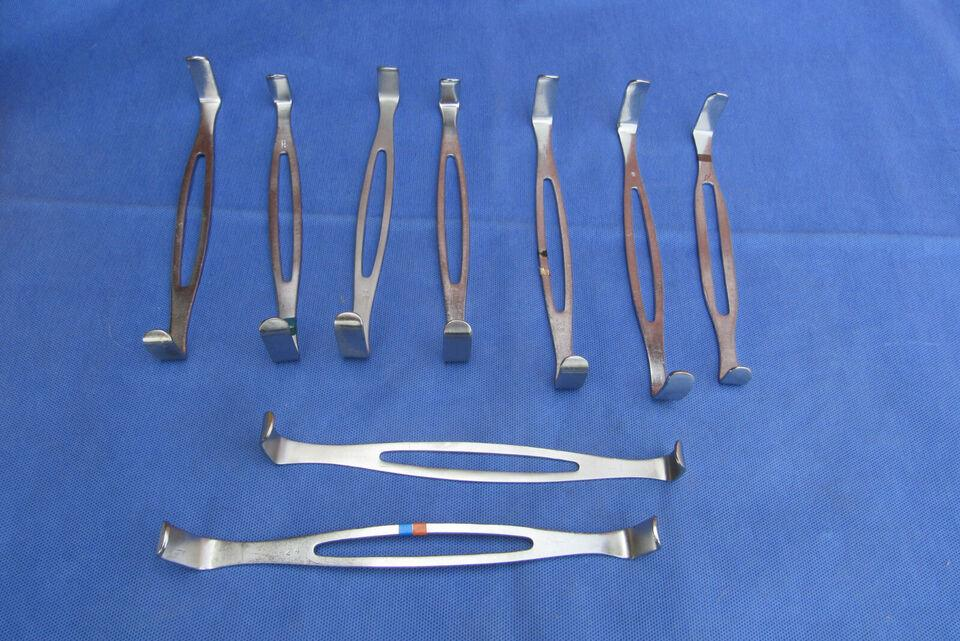Army Navy Retractor: (256, 388, 698, 494), (148, 504, 683, 577), (512, 67, 599, 395), (611, 73, 695, 407), (139, 39, 225, 360), (689, 82, 763, 393), (421, 71, 491, 368), (340, 59, 405, 358), (252, 67, 308, 366)
